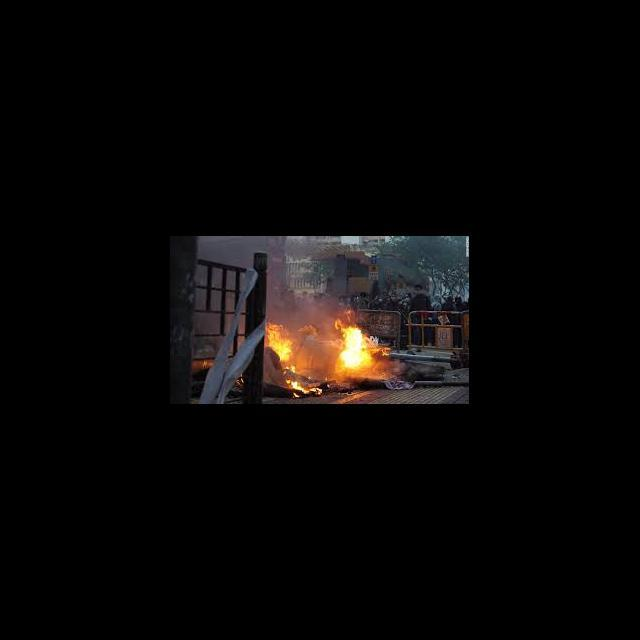Fire: (331, 320, 375, 378), (265, 322, 301, 372), (282, 376, 328, 398)
